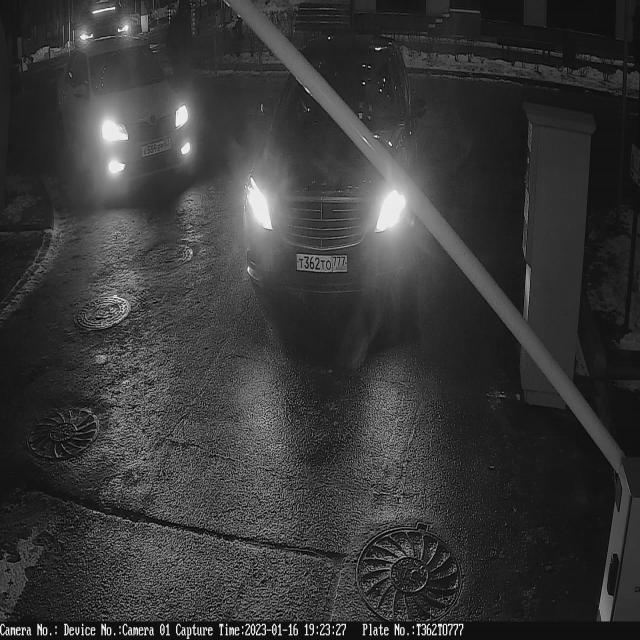car-plate-numbers: (294, 248, 352, 278)
